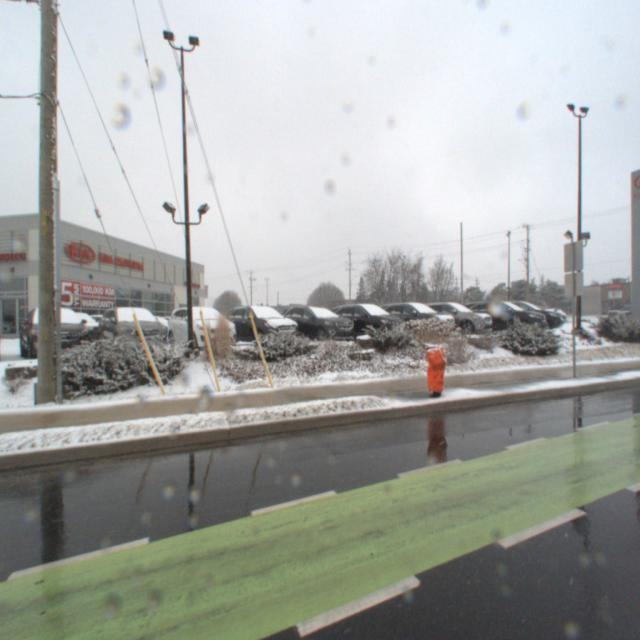Car: (17, 296, 93, 358), (216, 298, 303, 347), (274, 299, 362, 346), (93, 298, 171, 351), (326, 298, 412, 344), (164, 300, 242, 350), (456, 299, 549, 339), (371, 300, 459, 342), (406, 301, 496, 340), (476, 301, 564, 338), (39, 305, 115, 339)
